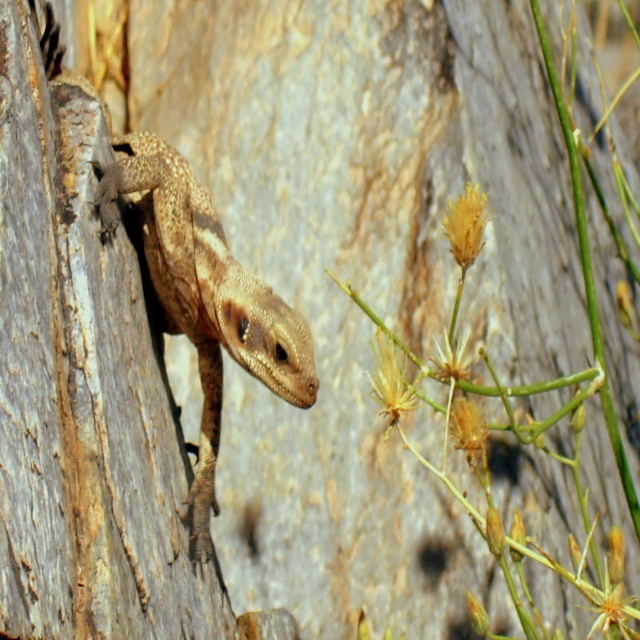Lizard: (67, 119, 311, 601)
